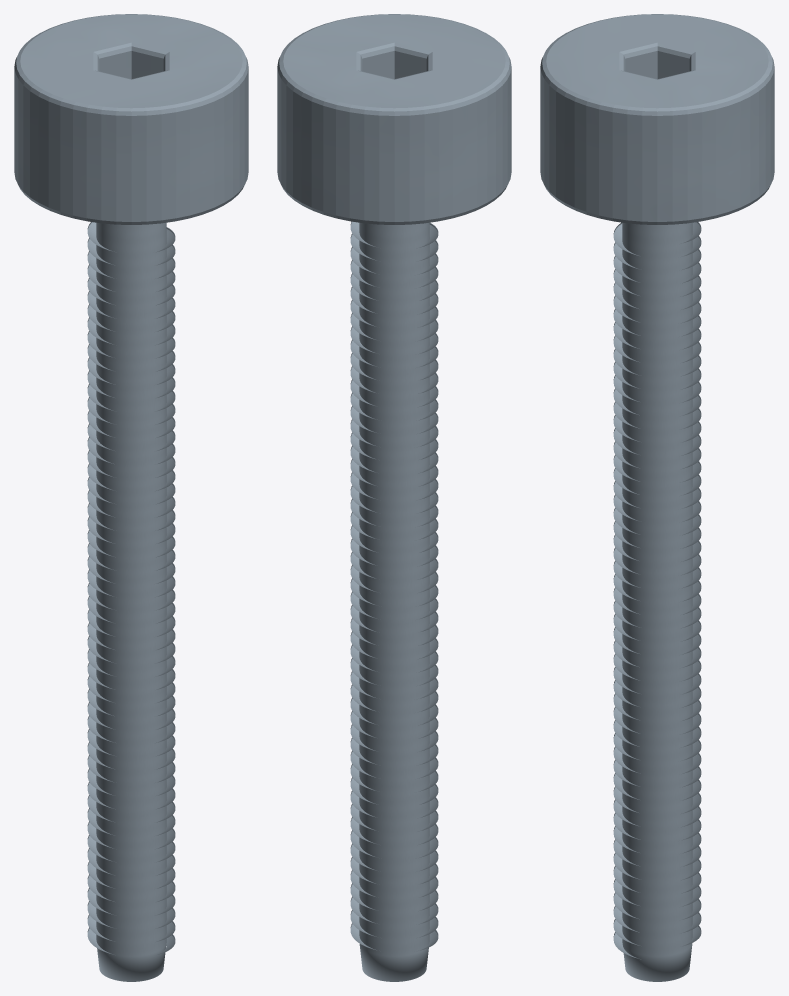
File: fastener.glb
3 renders of one model, left to right at view 1: azimuth 30°, elevation 25°; view 2: azimuth 150°, elevation 25°; view 3: azimuth 270°, elevation 25°, orthographic.
Parts seen in each view (by area): view 1: ScrewShaft, SocketCapHead, MachinedVThread; view 2: ScrewShaft, SocketCapHead, MachinedVThread; view 3: ScrewShaft, SocketCapHead, MachinedVThread.
Part boxes in pixels (x1,y1,x2,y2): ScrewShaft: [96, 222, 166, 981]; SocketCapHead: [14, 14, 248, 224]; MachinedVThread: [87, 222, 175, 954]; ScrewShaft: [359, 222, 429, 981]; SocketCapHead: [277, 14, 511, 224]; MachinedVThread: [350, 221, 438, 950]; ScrewShaft: [622, 222, 692, 981]; SocketCapHead: [540, 14, 774, 224]; MachinedVThread: [613, 222, 701, 959].
Bounding box in the file's own units: 0.008 × 0.0342 × 0.008.
Materials: 2 (1 with a texture image).
